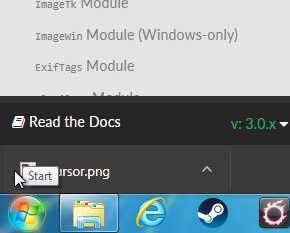cursor: (4, 164, 32, 196)
